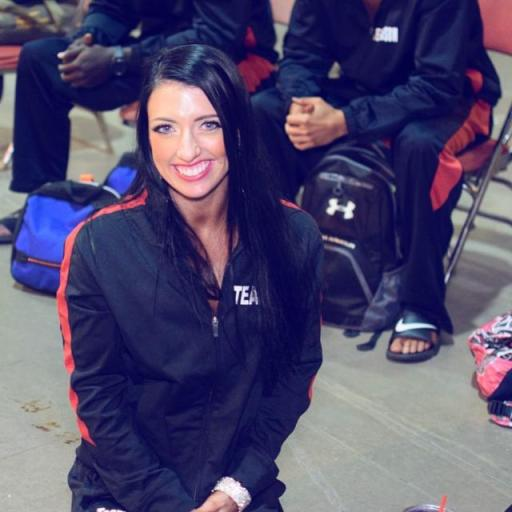Under Armour: (322, 196, 356, 222)
